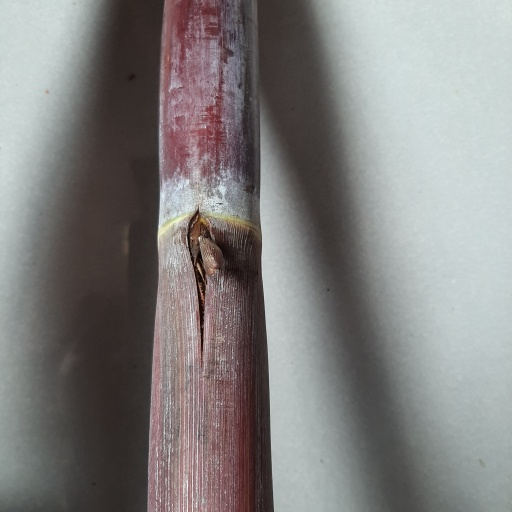Damage_Bud: (185, 212, 219, 325)
